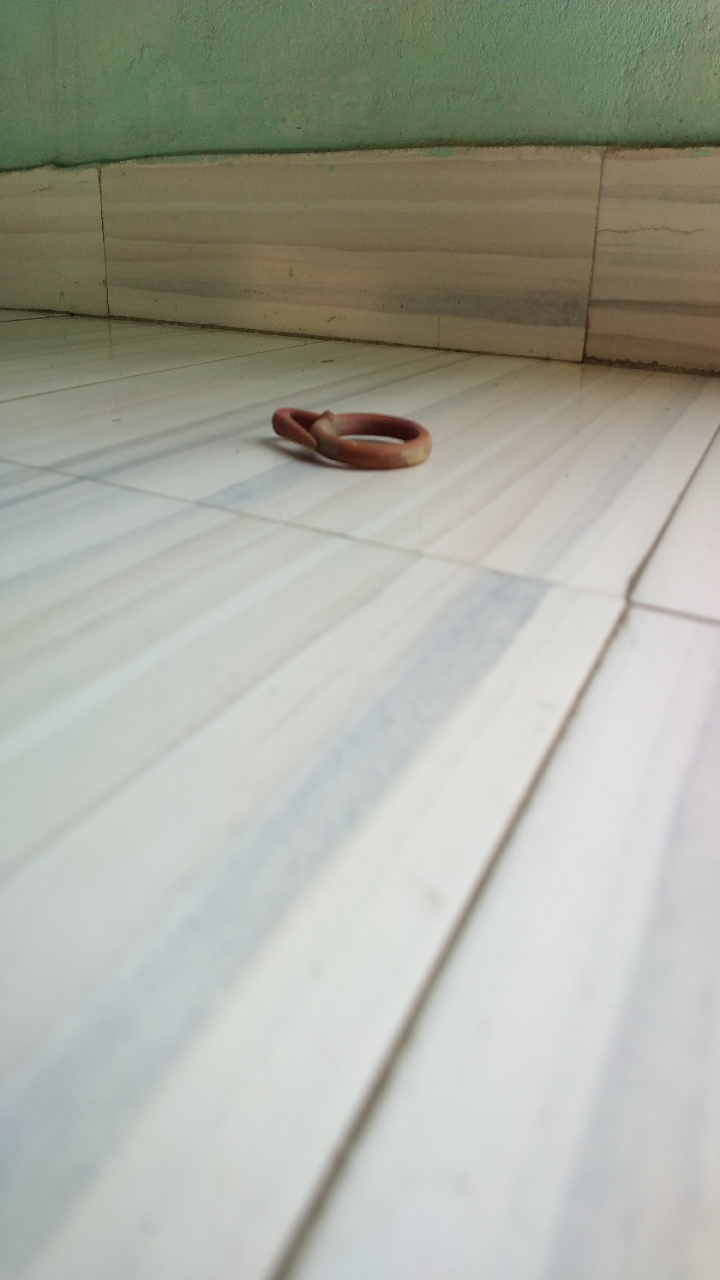garments: (264, 395, 441, 483)
